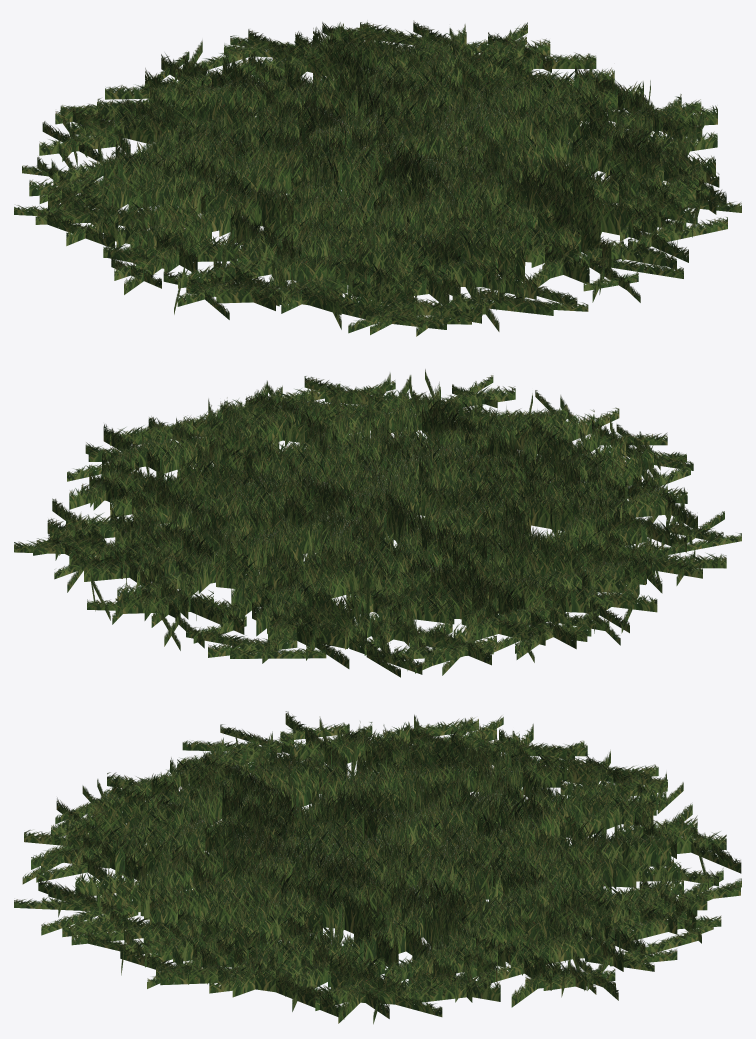
The model's file is grass_a.glb.
3 renders of one model, top to bottom at view 1: azimuth 30°, elevation 25°; view 2: azimuth 150°, elevation 25°; view 3: azimuth 270°, elevation 25°, orthographic. The views are drawn at different scales.
Parts seen in each view (by area): view 1: grass_a; view 2: grass_a; view 3: grass_a.
Boxes of the visible parts, box(x1,y1,x2,y2) form: grass_a: box(14, 20, 741, 336); grass_a: box(14, 369, 741, 677); grass_a: box(14, 711, 741, 1024).
Size of the model in its own units: 6.81 by 0.5787 by 6.97.
1 material, 1 textured.
